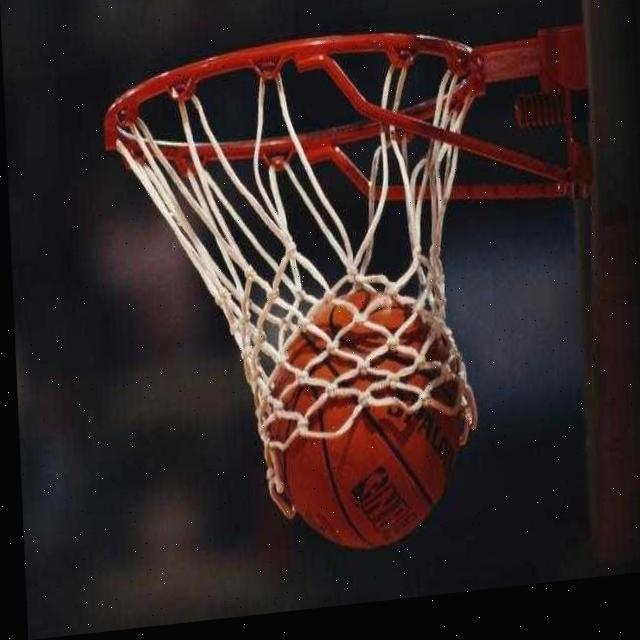basketball: (258, 268, 477, 563)
hoop: (96, 18, 502, 582), (98, 16, 499, 544)
